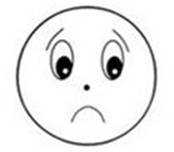triste: (9, 2, 160, 147), (42, 26, 135, 128)
